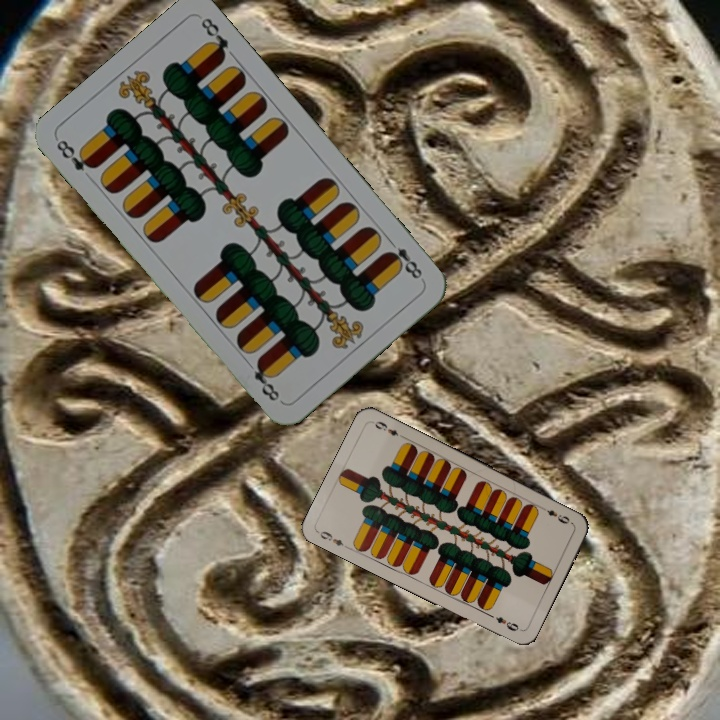E8: (381, 234, 425, 282), (52, 135, 99, 174)
E9: (314, 527, 352, 551), (538, 502, 573, 526)
